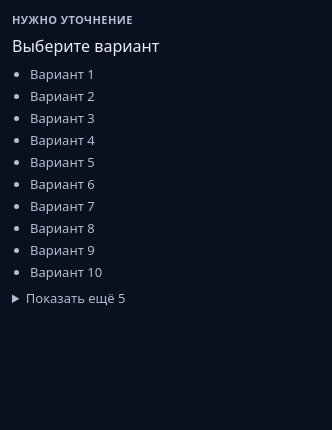
Test: AgentResultViewer › shows ten interaction choices first and discloses every remaining choice on demand
The width and height of the screenshot is (332, 430).
Expected: the list item "Вариант 1" is shown, [30, 65, 95, 83]
Expected: the list item "Вариант 10" is shown, [30, 263, 102, 281]
Click the heading "Показать ещё 5".
click(69, 298)  # box [12, 289, 126, 307]
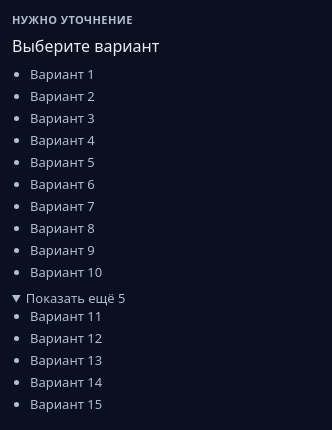
Expected: the list item "Вариант 11" is shown, [30, 307, 102, 325]
Expected: the list item "Вариант 15" is shown, [30, 395, 102, 413]
